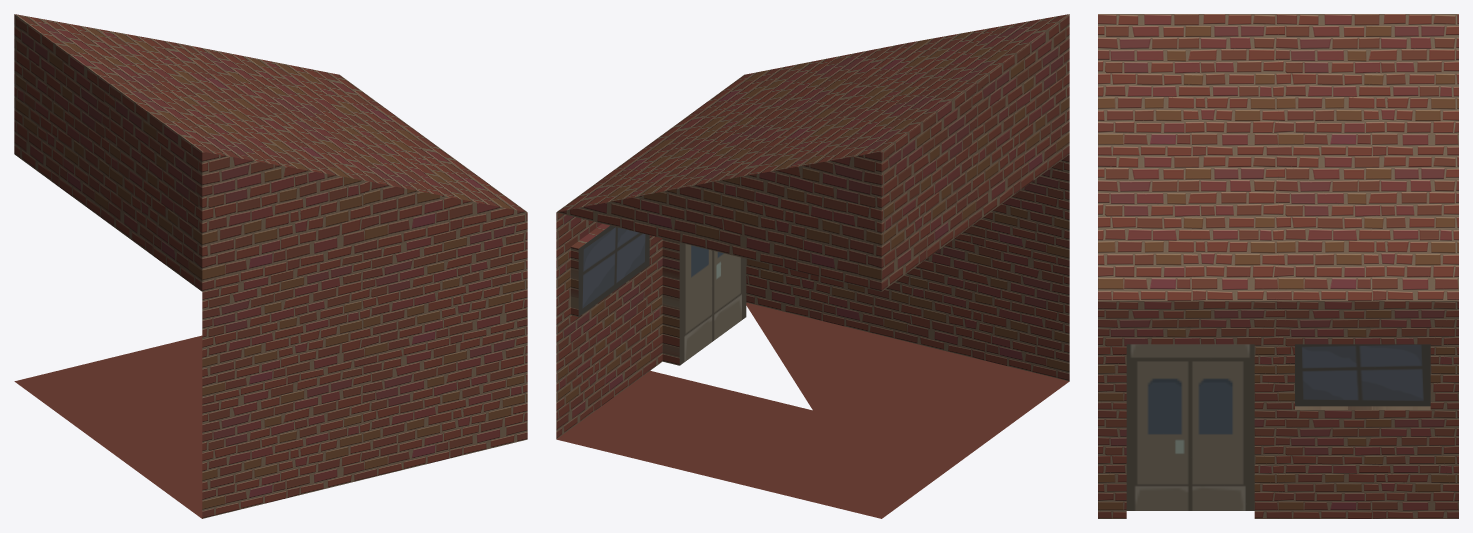
Rendered from Bock_A3(0).fbx.
The picture shows the model from 3 angles, left to right: view 1: azimuth 30°, elevation 25°; view 2: azimuth 150°, elevation 25°; view 3: azimuth 270°, elevation 25°; orthographic projection. The views are drawn at different scales.
Parts seen in each view (by area): view 1: Bock_A3; view 2: Bock_A3; view 3: Bock_A3.
Boxes of the visible parts, x1,y1,x2,y2 form: Bock_A3: [14, 14, 527, 518]; Bock_A3: [556, 14, 1069, 518]; Bock_A3: [1098, 14, 1458, 518].
Bounding box in the file's own units: 600 × 647 × 600.
